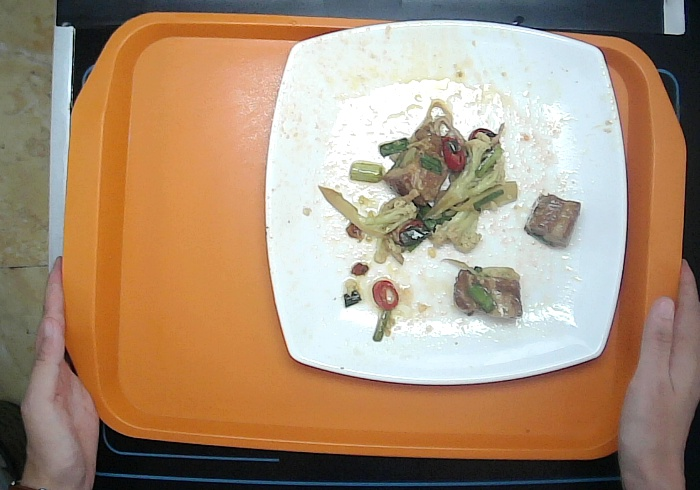ZNLD-Bai_Fang_Pan: (259, 16, 632, 390)
